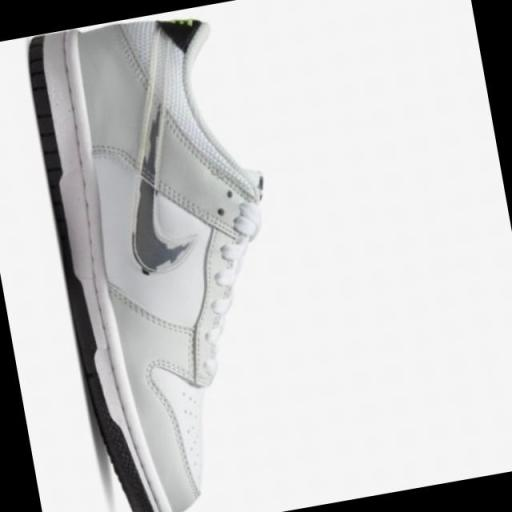Nike: (100, 47, 210, 284)
